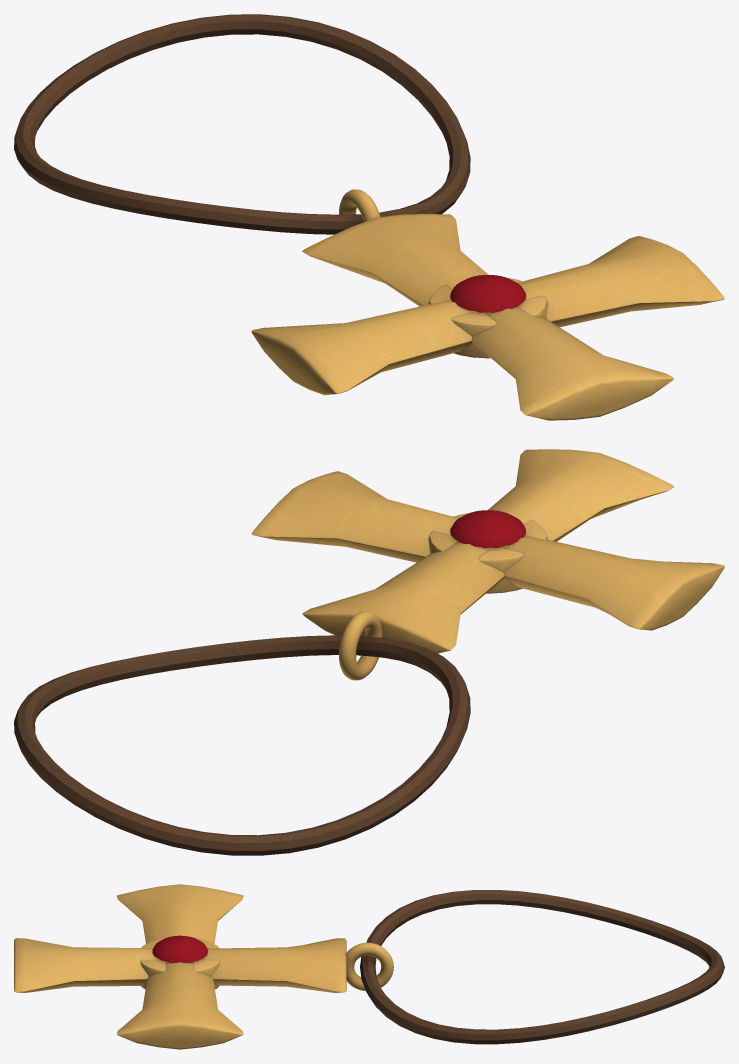
The model's file is pectoral_cross.glb.
3 renders of one model, top to bottom at view 1: azimuth 30°, elevation 25°; view 2: azimuth 150°, elevation 25°; view 3: azimuth 270°, elevation 25°, orthographic. The views are drawn at different scales.
Parts seen in each view (by area): view 1: pectoral_cross; view 2: pectoral_cross; view 3: pectoral_cross.
Boxes of the visible parts, x1,y1,x2,y2 form: pectoral_cross: (14, 14, 724, 420); pectoral_cross: (14, 449, 724, 855); pectoral_cross: (14, 884, 724, 1049).
Size of the model in its own units: 0.047 by 0.00809 by 0.1005.
Materials: 1 (1 with a texture image).
